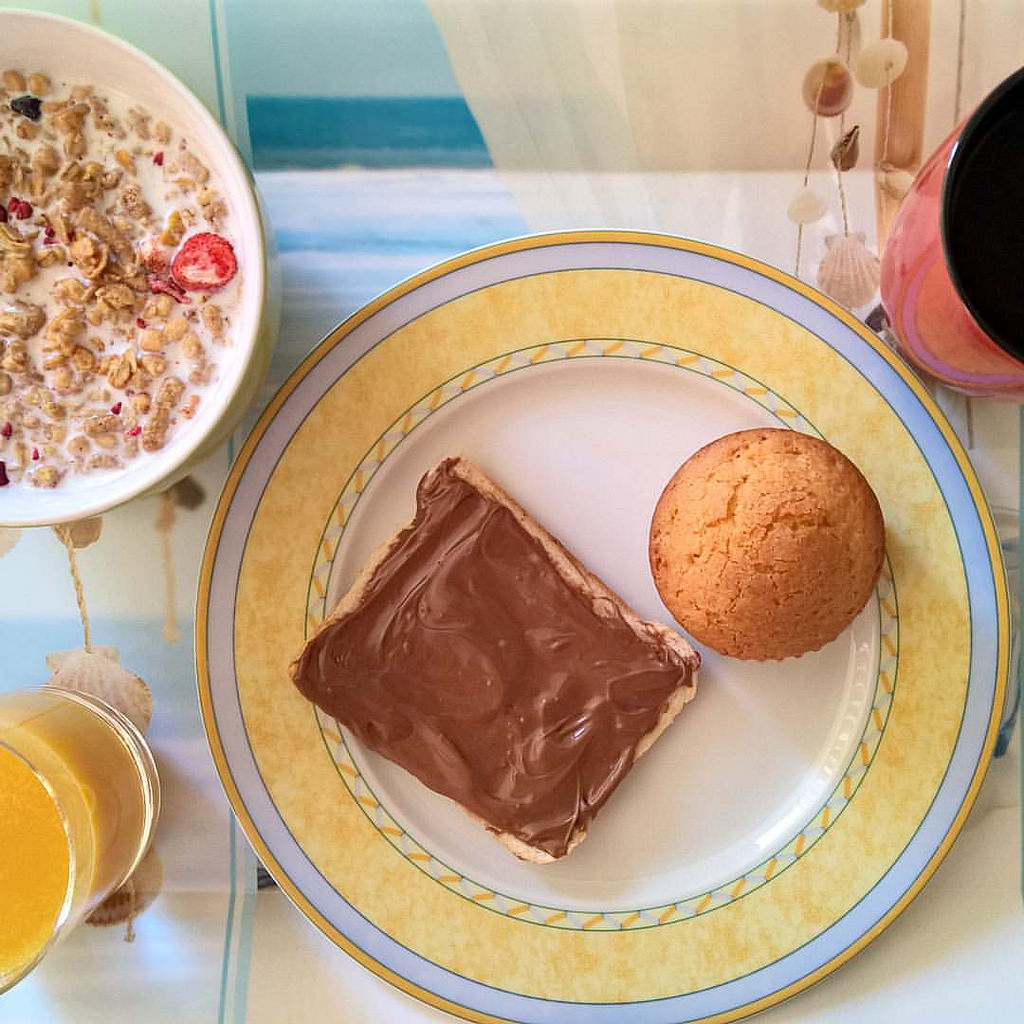slice of bread: (301, 489, 665, 848), (652, 430, 888, 645)
